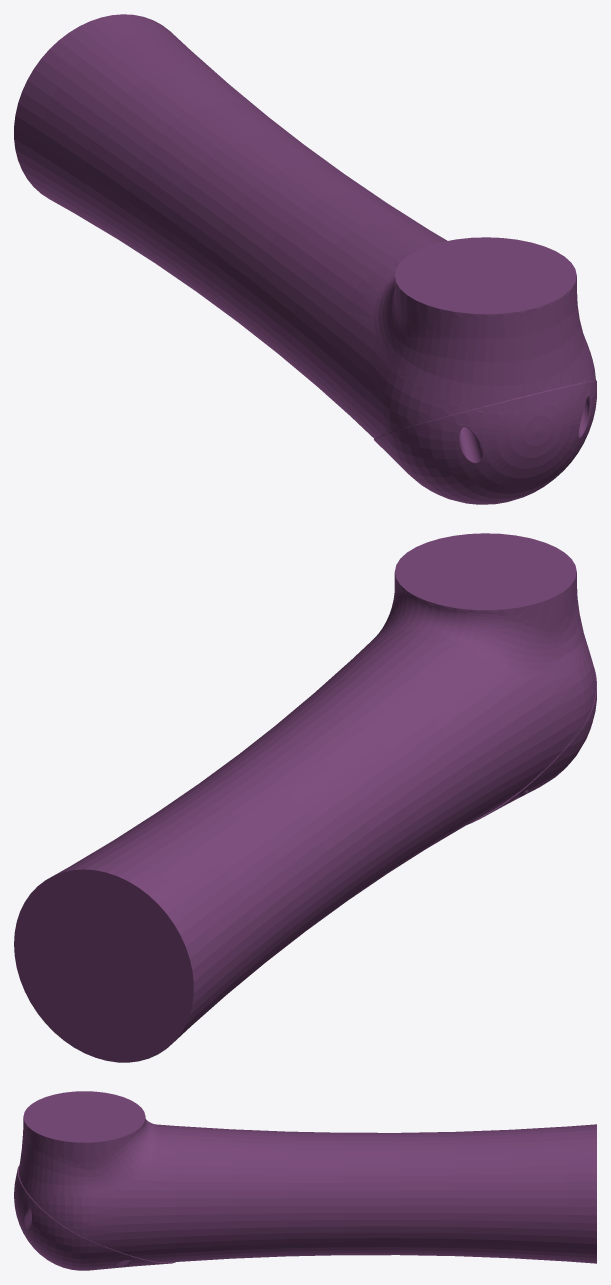
The model's file is FanucCRX10IALink4.dae.
The picture shows the model from 3 angles, top to bottom: view 1: azimuth 30°, elevation 25°; view 2: azimuth 150°, elevation 25°; view 3: azimuth 270°, elevation 25°; orthographic projection. The views are drawn at different scales.
Visible parts, largest first — view 1: CRX10IALink4; view 2: CRX10IALink4; view 3: CRX10IALink4.
Boxes of the visible parts, x1,y1,x2,y2 form: CRX10IALink4: [14, 14, 596, 504]; CRX10IALink4: [14, 533, 596, 1062]; CRX10IALink4: [14, 1091, 596, 1270].
Size of the model in its own units: 0.1138 by 0.4391 by 0.1221.
